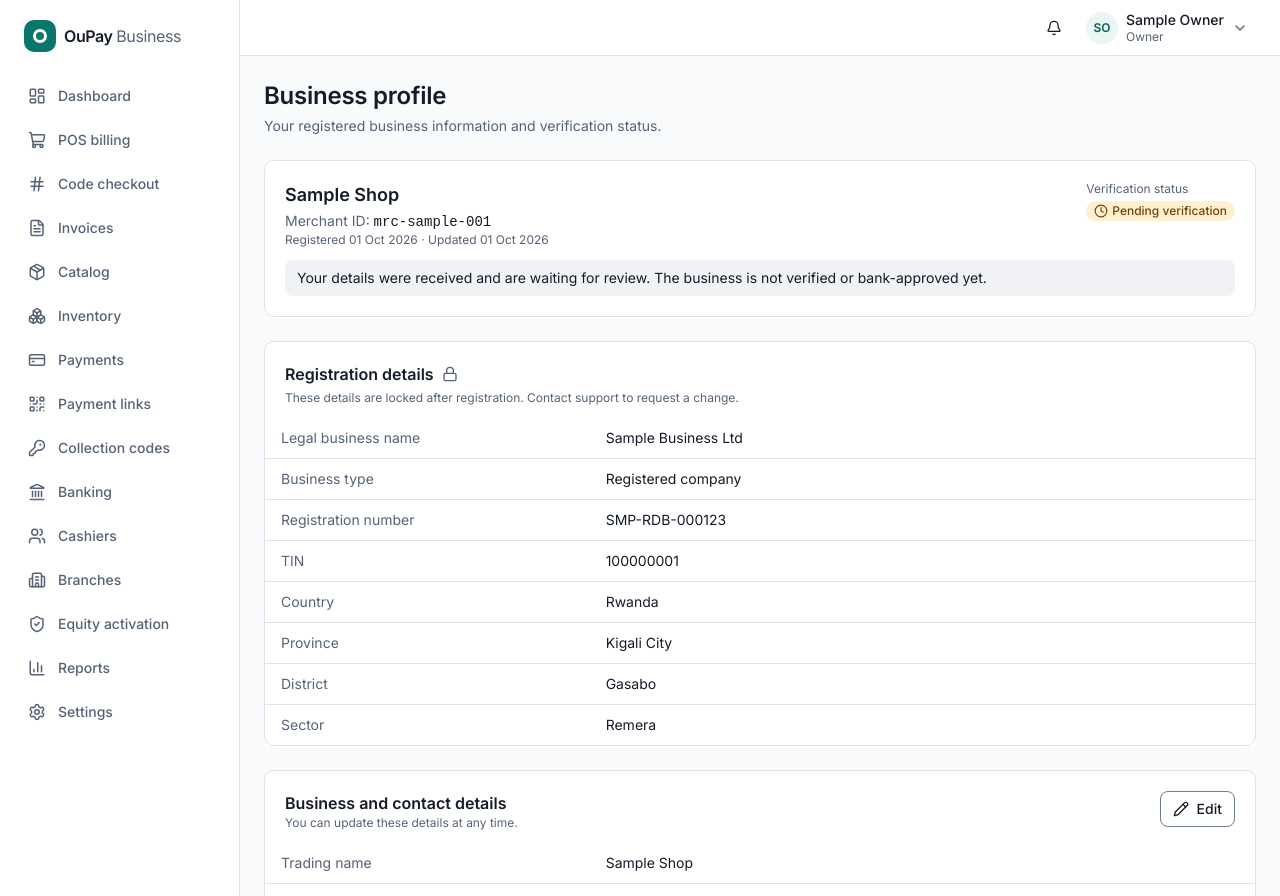
Scenario: merchant profile › validates edits and does not save invalid data
Expected: the text "mrc-sample-001" is shown, [374, 214, 491, 230]
Click the button named "Edit business and contact details" at (1197, 809), box [1160, 791, 1235, 827]
(page scrolled)
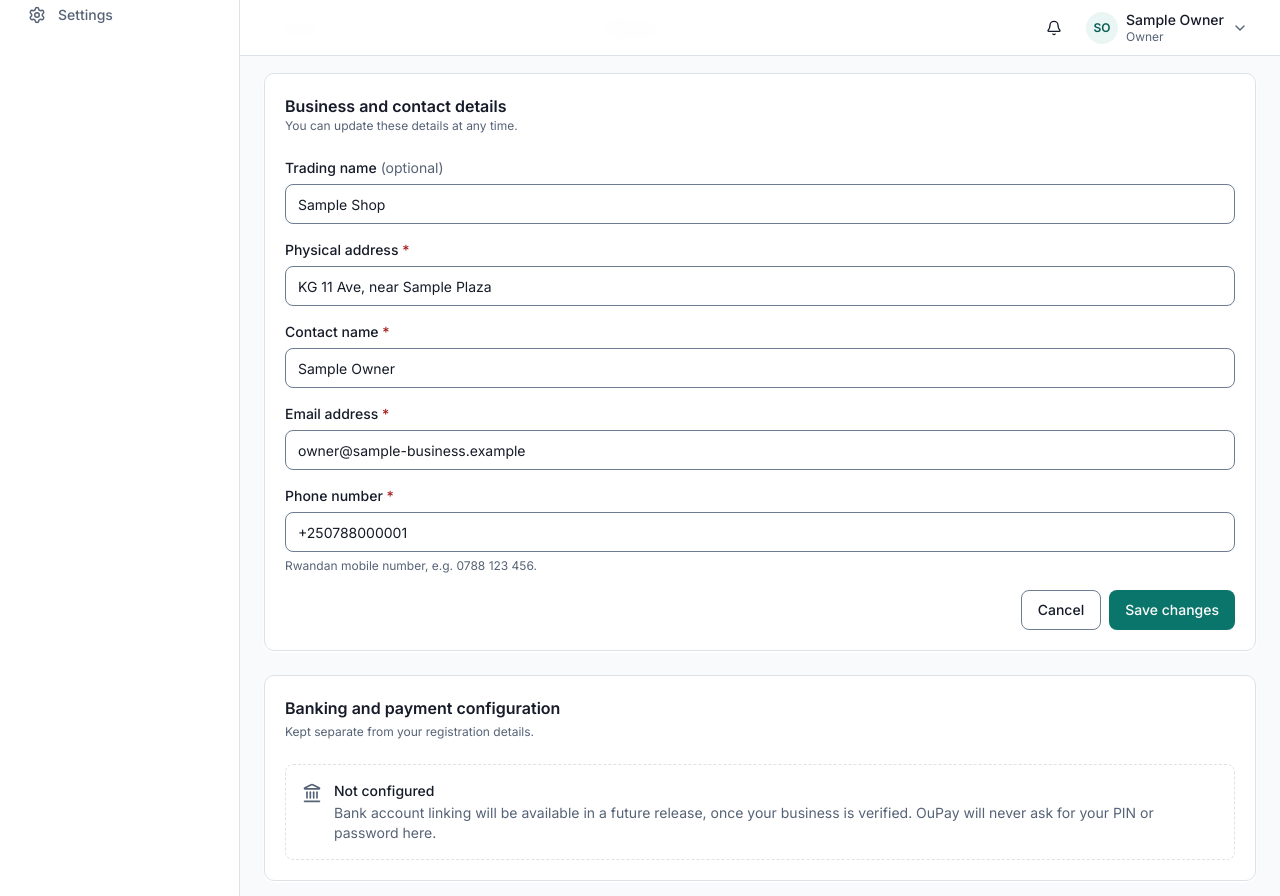
Replace the text in the field labelled "Email address *" with "nope" at (760, 450), box [285, 430, 1235, 470]
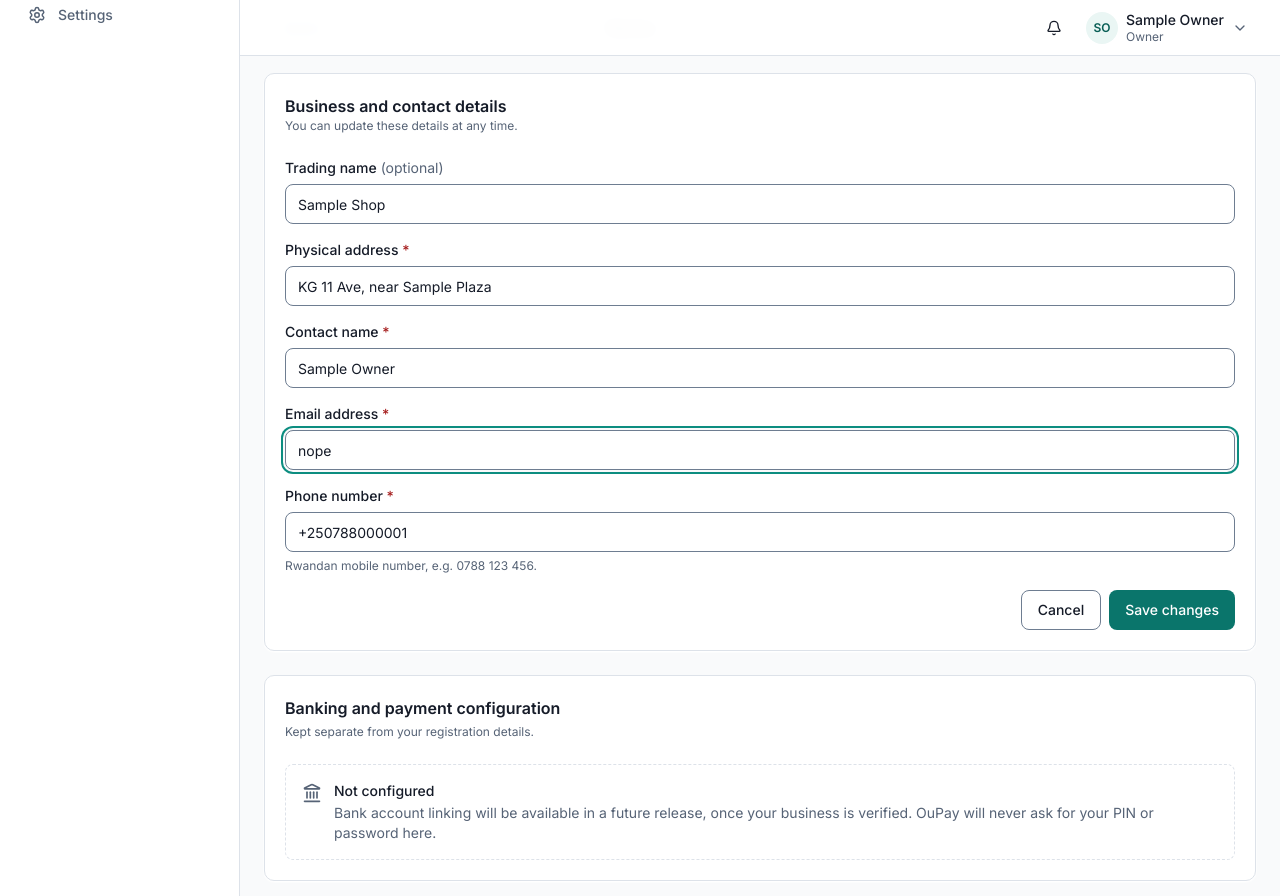
Click the button "Save changes" at (1172, 610), box [1109, 590, 1235, 630]
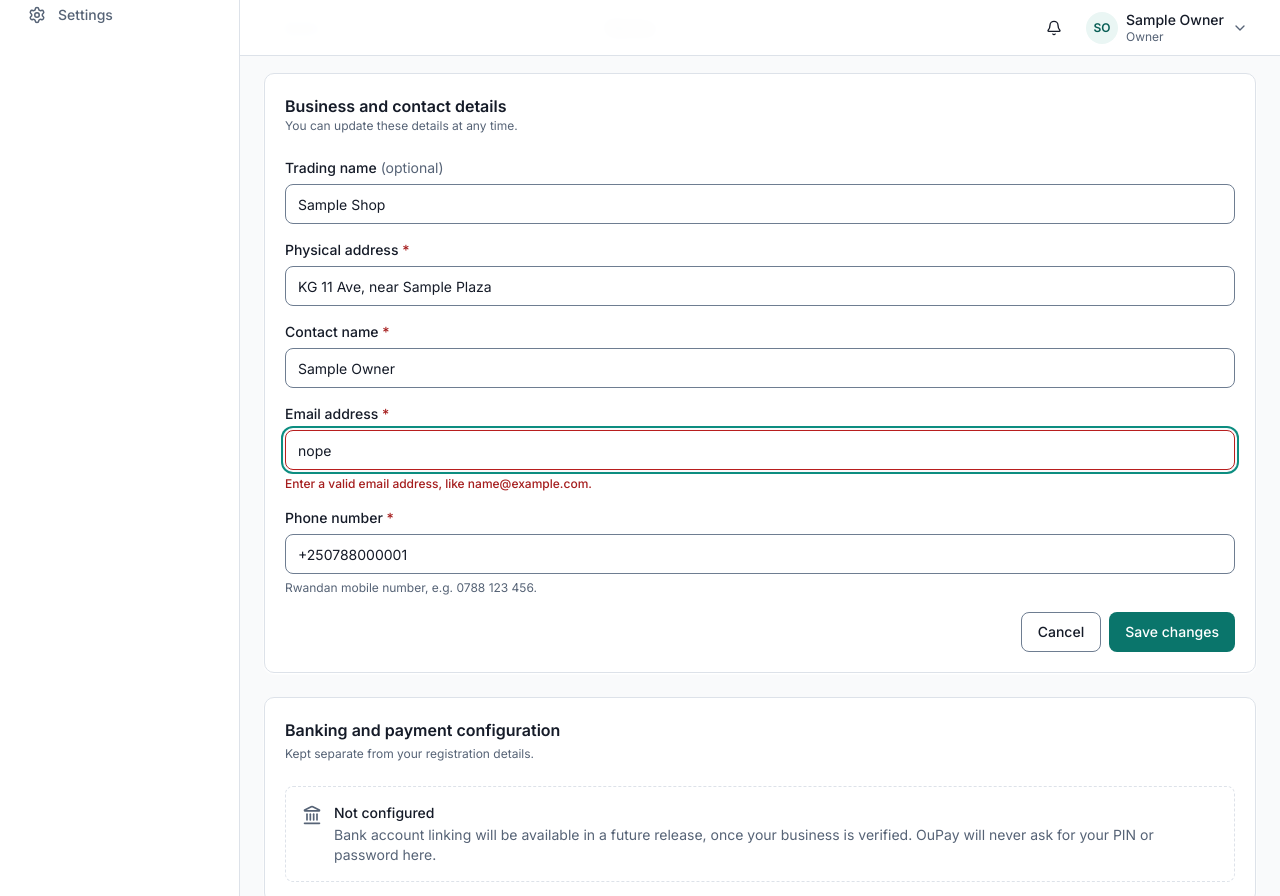
Expected: the text "Enter a valid email address, like name@example.com." is shown, [285, 476, 592, 491]
